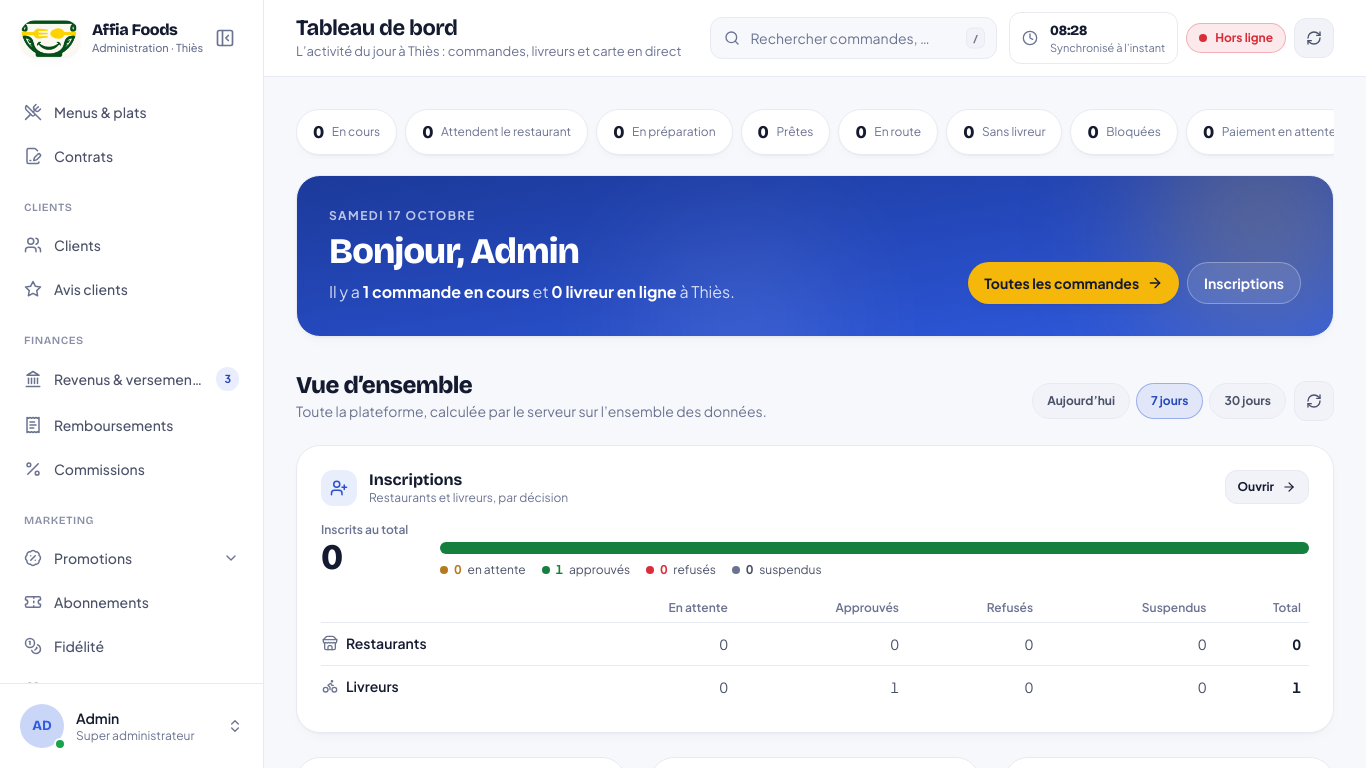
Test: Finance section wiring › the sidebar shows the number of PENDING settlements, and opening Finance shows its tabs with the same number
This screenshot has width=1366, height=768.
(page scrolled)
Click the button "Revenus & versements 3".
click(132, 379)  # box 12,357 -> 251,401
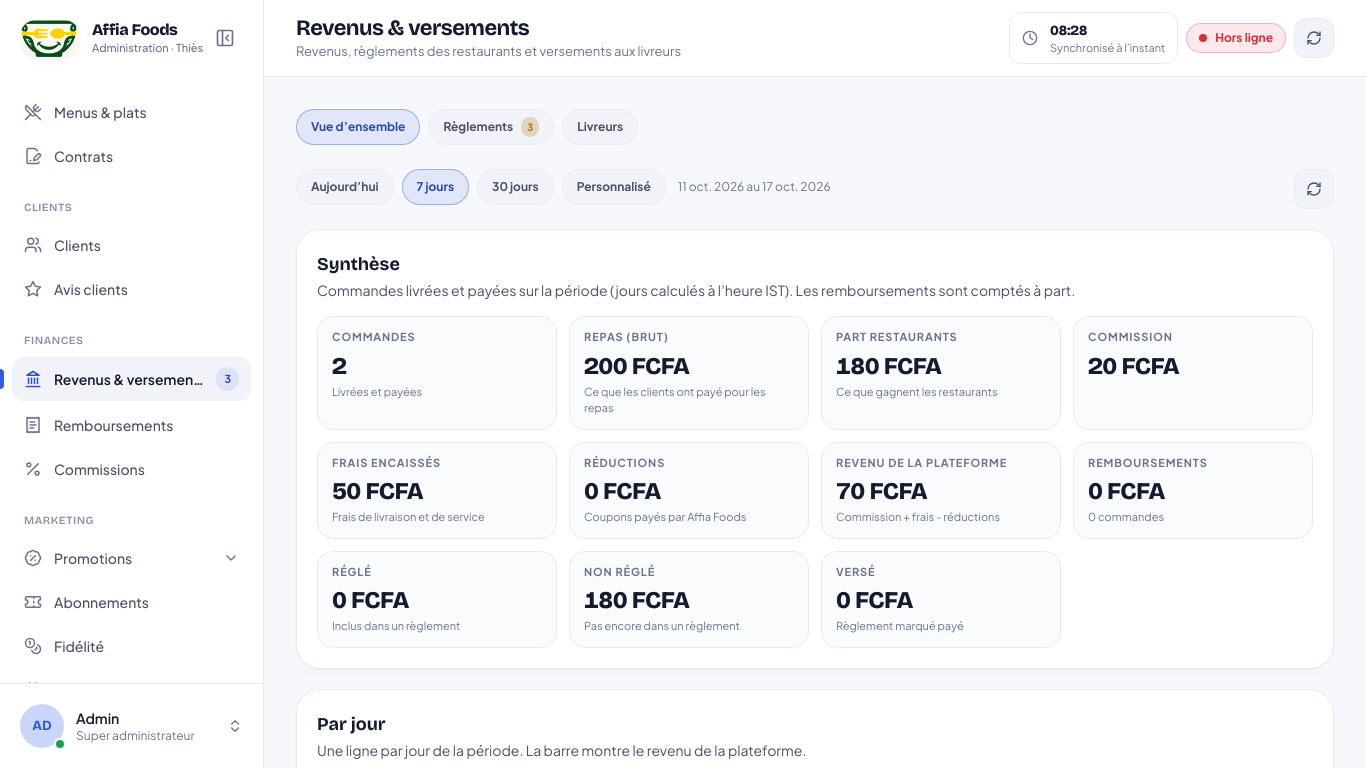
Expected: the element named "Sections financières" is shown, 296,109 -> 638,145
Expected: the tab with id "finance-tab-settlements" shows "3", 428,109 -> 554,145
Expected: the text "Revenu de la plateforme" is shown, 836,456 -> 1007,468
